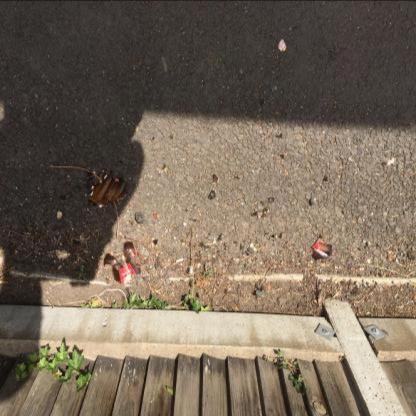Broken glass: (87, 169, 129, 207), (103, 241, 140, 284), (310, 242, 332, 260), (251, 211, 267, 218), (22, 224, 33, 234), (87, 169, 95, 181), (207, 189, 215, 200), (87, 178, 94, 190), (329, 51, 336, 58), (213, 174, 218, 183), (269, 197, 275, 203), (349, 264, 354, 270), (152, 240, 158, 245), (324, 175, 328, 182), (275, 133, 282, 137), (235, 175, 240, 180), (263, 208, 268, 213), (309, 198, 312, 206), (153, 213, 157, 219), (168, 136, 173, 140), (382, 162, 387, 166), (279, 232, 282, 238), (280, 154, 284, 158), (233, 241, 238, 244), (261, 201, 264, 205), (271, 234, 274, 238)
Cigarette: (177, 258, 184, 263)
Unlabeled litter: (279, 39, 286, 50)
